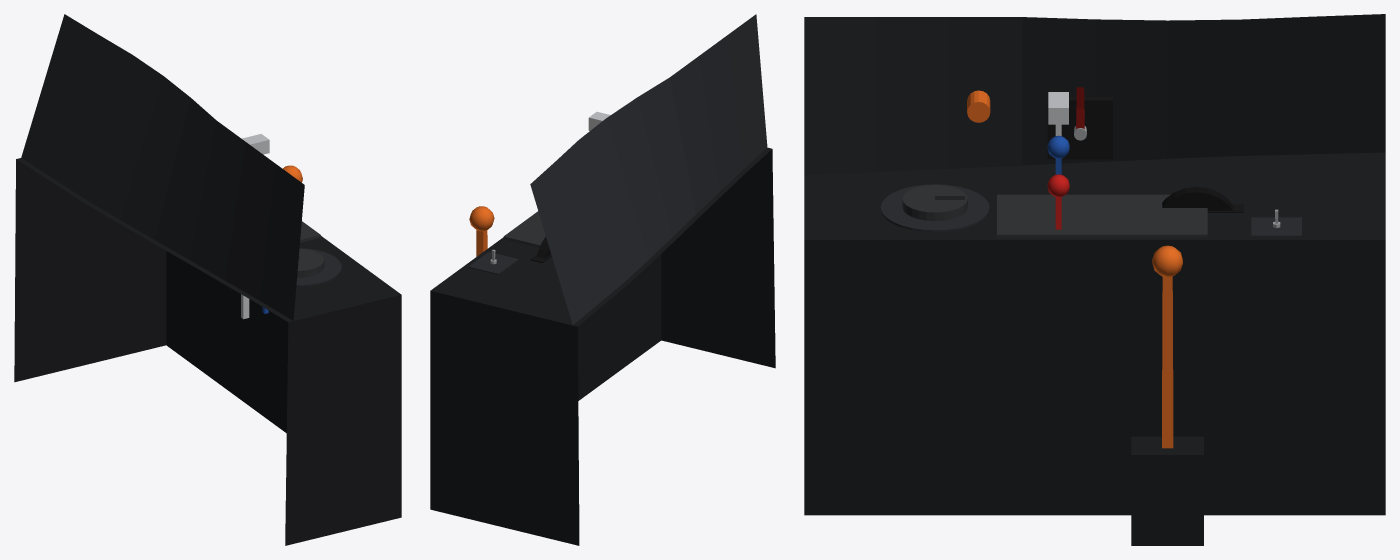
File: cab_consola.glb
3 renders of one model, left to right at view 1: azimuth 30°, elevation 25°; view 2: azimuth 150°, elevation 25°; view 3: azimuth 270°, elevation 25°, orthographic. The views are drawn at different scales.
Parts seen in each view (by area): view 1: consola_tablero, consola_placa, trim_timon_placa, swK_TRIMTIMON, levPOT; view 2: consola_tablero, consola_placa, consola_bisel, levEDUMP, aileron_placa; view 3: consola_tablero, consola_placa, consola_bisel, fuel_placa, levEDUMP, trim_timon_placa, swK_TRIMTIMON, swK_TRIMPROF, aileron_placa, levPOT.
Part boxes in pixels (x1,y1,x2,y2): consola_tablero: (14,158,401,545); consola_placa: (21,14,304,320); trim_timon_placa: (296,248,341,286); swK_TRIMTIMON: (297,248,324,277); levPOT: (241,134,269,319); consola_tablero: (430,147,775,545); consola_placa: (530,14,767,325); consola_bisel: (503,211,545,247); levEDUMP: (469,206,494,256); aileron_placa: (468,252,518,274); consola_tablero: (804,152,1385,545); consola_placa: (804,14,1385,174); consola_bisel: (997,194,1207,237); fuel_placa: (1047,97,1112,159); levEDUMP: (1152,245,1182,448); trim_timon_placa: (880,184,989,232); swK_TRIMTIMON: (902,185,967,220); swK_TRIMPROF: (1162,186,1233,210); aileron_placa: (1251,217,1301,236); levPOT: (1048,92,1068,135).
Size of the model in its own units: 0.3982 by 0.668 by 0.8.
